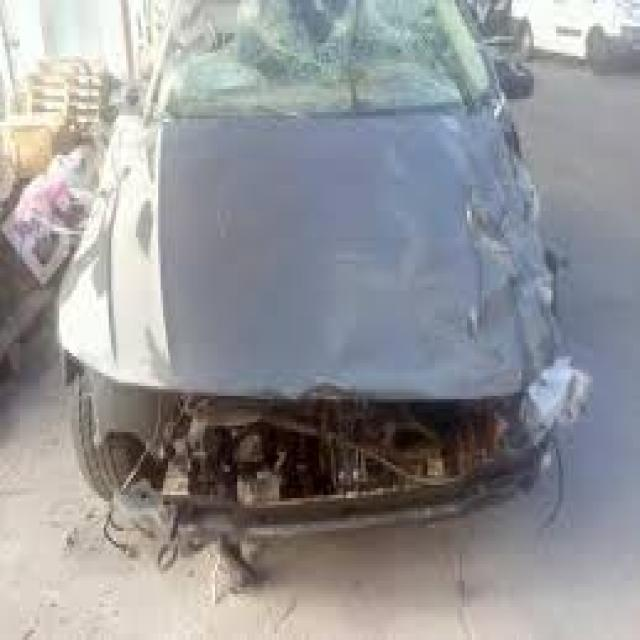damaged-windscreen: (152, 2, 494, 112)
